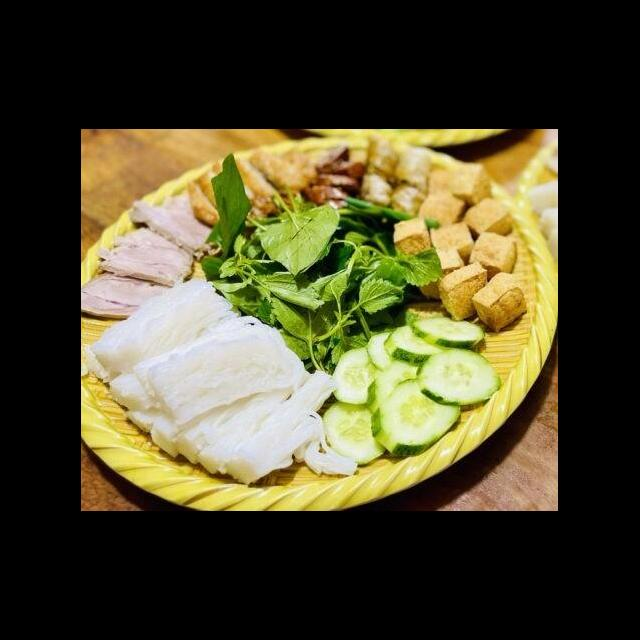bun: (82, 276, 368, 489)
bun dau: (86, 154, 549, 501)
cha com: (178, 142, 322, 231)
cha gio: (358, 130, 437, 221)
dau hu: (416, 157, 496, 233), (467, 266, 532, 338), (436, 256, 490, 324), (464, 228, 526, 282), (428, 216, 480, 272), (462, 192, 518, 243), (392, 213, 434, 263)
doi sun: (302, 135, 366, 211)
thit heo: (126, 185, 222, 261), (96, 223, 200, 289), (82, 260, 176, 324)
